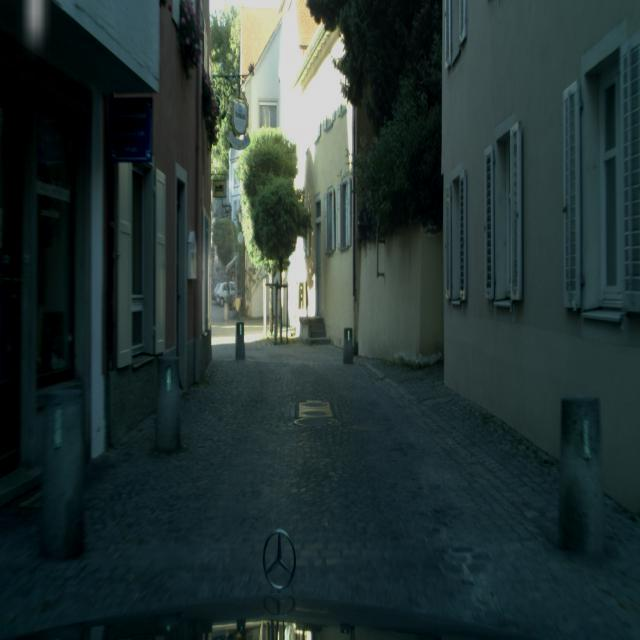bus: (216, 281, 235, 307), (212, 281, 222, 302)
